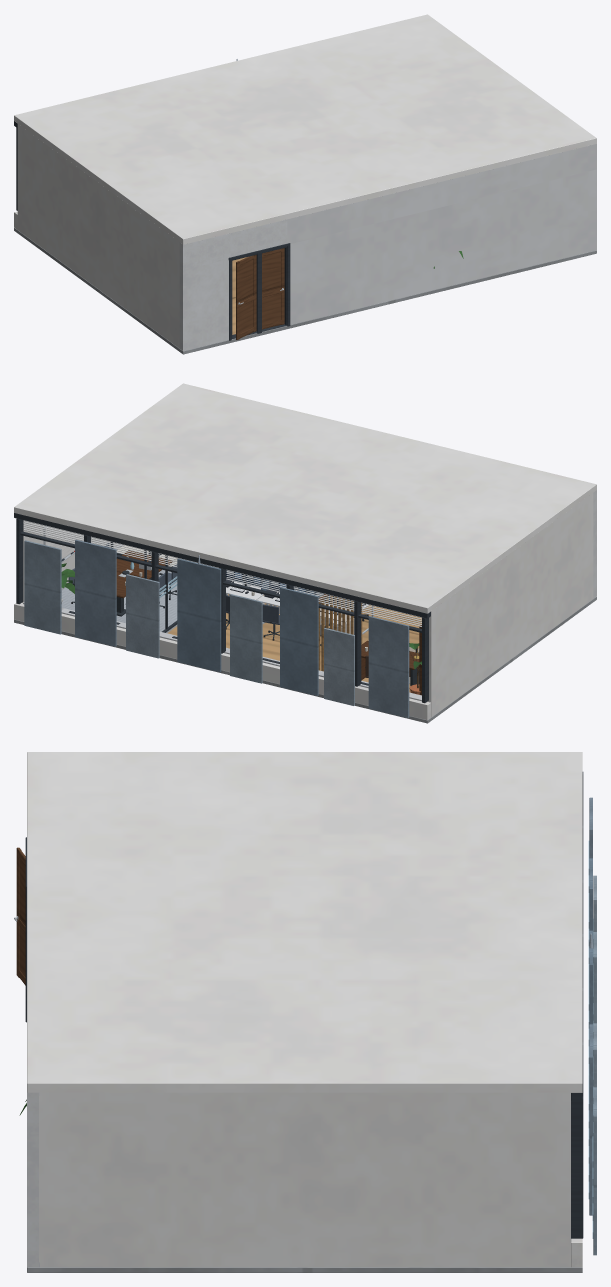
Rendered from mobile.glb.
3 views of the same model, one above another, from view 1: azimuth 30°, elevation 25°; view 2: azimuth 150°, elevation 25°; view 3: azimuth 270°, elevation 25° (orthographic). The views are drawn at different scales.
Visible parts, largest first — view 1: BG_Ceiling, BG_Cutaway_Front, BG_Shell_Fixed; view 2: BG_Ceiling, BG_Shell_Fixed, BG_Cutaway_Front, BG_Furnishings; view 3: BG_Ceiling, BG_Shell_Fixed, BG_Cutaway_Front.
Part boxes in pixels (bbox=[...]): BG_Ceiling: bbox=[14, 14, 596, 244]; BG_Cutaway_Front: bbox=[17, 124, 596, 350]; BG_Shell_Fixed: bbox=[14, 59, 596, 354]; BG_Ceiling: bbox=[14, 383, 596, 613]; BG_Shell_Fixed: bbox=[14, 513, 596, 723]; BG_Cutaway_Front: bbox=[427, 490, 596, 717]; BG_Furnishings: bbox=[61, 543, 421, 695]; BG_Ceiling: bbox=[27, 752, 582, 1092]; BG_Shell_Fixed: bbox=[27, 772, 596, 1272]; BG_Cutaway_Front: bbox=[14, 837, 39, 1267].
Size of the model in its own units: 12 by 3.2 by 8.92.
2 materials, 2 textured.
